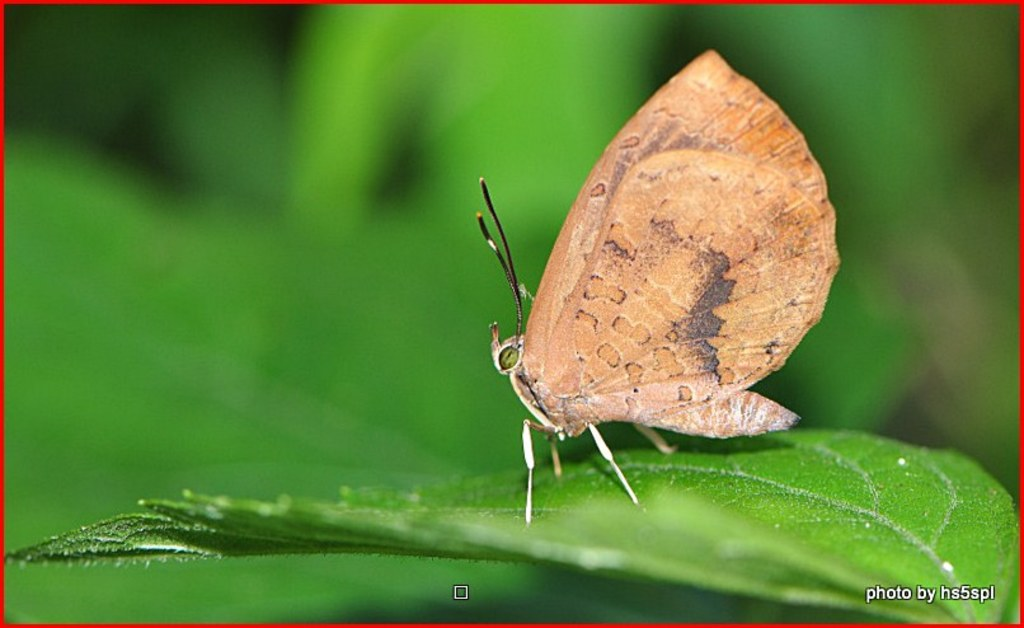Butterfly: (423, 29, 841, 537)
